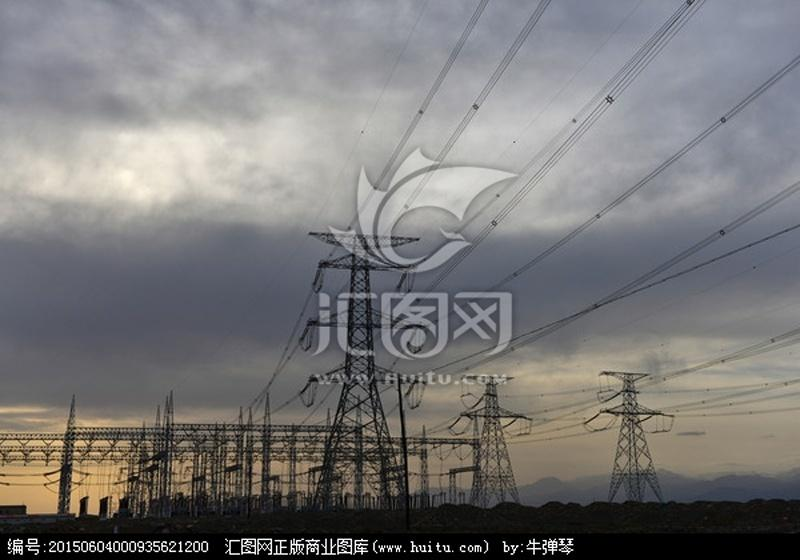power_tower: (288, 225, 418, 507), (600, 363, 671, 504), (467, 362, 528, 505)
